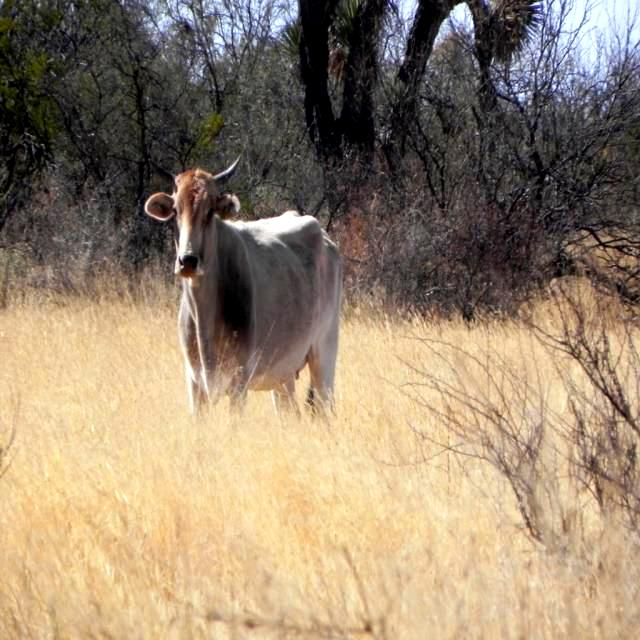COW: (145, 161, 342, 411)
